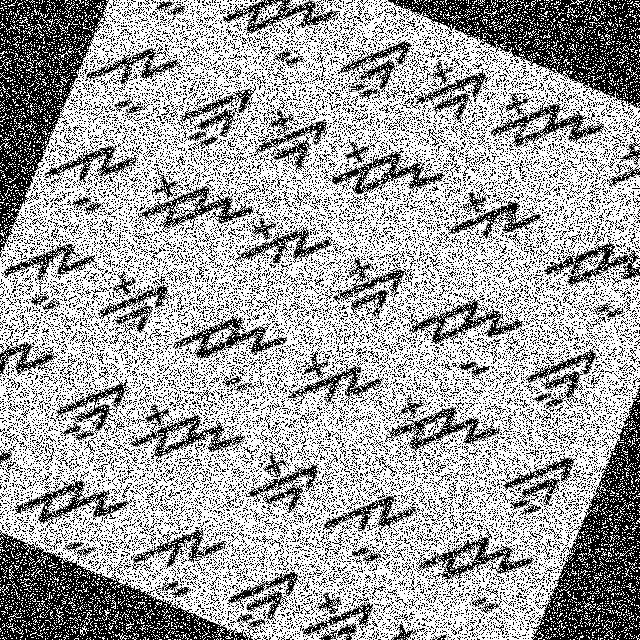ah: (76, 17, 192, 134), (309, 470, 426, 582), (28, 121, 142, 232), (119, 504, 232, 615), (0, 216, 106, 332), (113, 0, 228, 35)
nggah: (488, 430, 582, 532), (40, 360, 134, 458), (216, 541, 307, 639), (514, 328, 605, 425), (170, 66, 261, 160), (328, 13, 414, 108)
nggo: (233, 423, 333, 532), (321, 238, 414, 334), (403, 42, 490, 136), (89, 256, 177, 347), (246, 93, 334, 180), (285, 570, 383, 639)
njah: (387, 259, 535, 391), (153, 282, 294, 409), (404, 503, 542, 628), (0, 450, 136, 575), (524, 199, 639, 344), (206, 0, 350, 85)
njo: (477, 70, 614, 188), (370, 378, 504, 498), (322, 121, 454, 232), (125, 389, 249, 492), (134, 163, 255, 264), (369, 605, 500, 639)
o: (280, 336, 392, 438), (438, 168, 548, 271), (235, 200, 337, 294), (0, 314, 64, 414), (594, 120, 639, 233)
